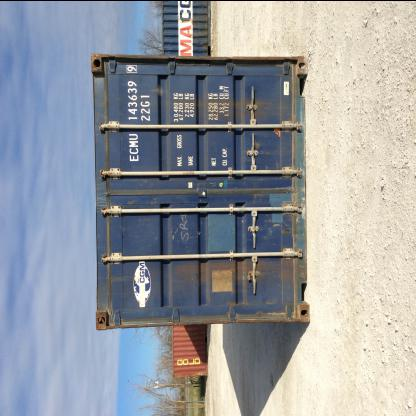Damage: (180, 300, 310, 326), (178, 260, 290, 288), (164, 93, 274, 116), (262, 197, 302, 240), (101, 76, 116, 174), (96, 257, 113, 333), (244, 133, 270, 163), (96, 184, 120, 216)
